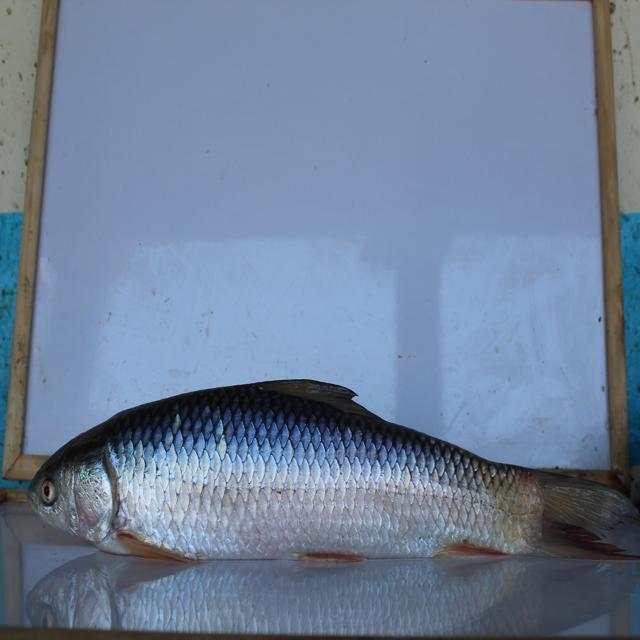Mori: (34, 394, 627, 580)
